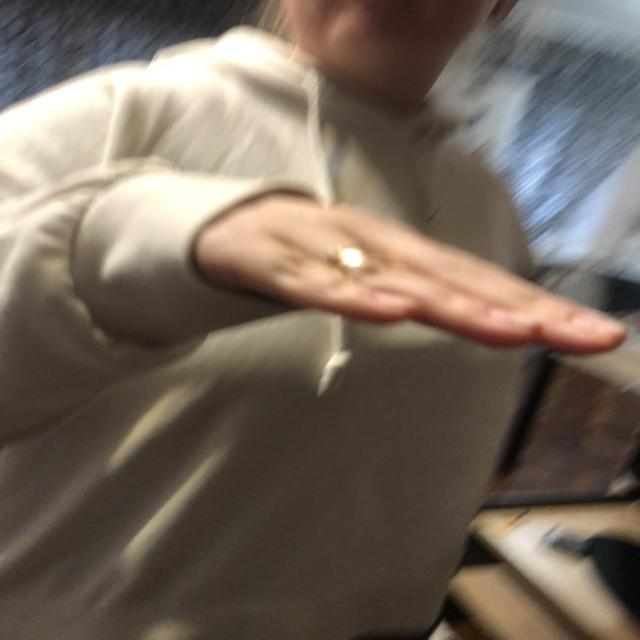paper: (204, 201, 629, 356)
